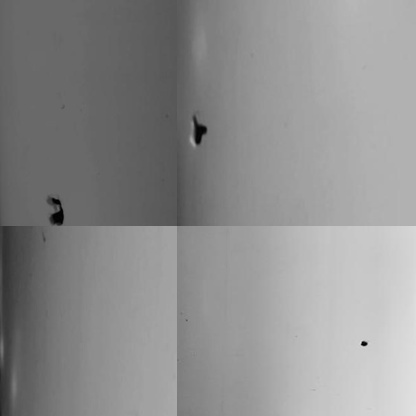kongdong: (182, 111, 216, 149), (43, 195, 67, 225), (359, 338, 367, 349)
